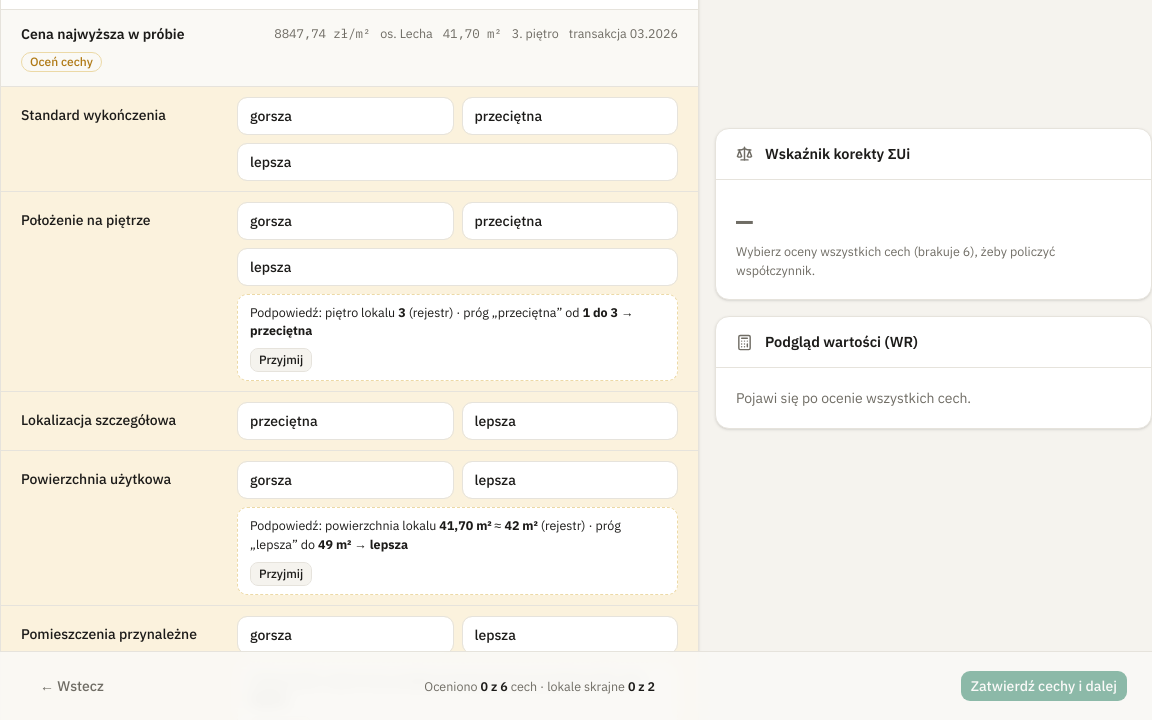
StepFeatures — lokale o cenie skrajnej (ADR-022, makieta 7) › „Przyjmij” zaznacza podpowiedziany kafelek i chowa podpowiedź; nic nie zaznacza się samo
The width and height of the screenshot is (1152, 720).
(page scrolled)
Click the 1st button "Przyjmij" at (281, 360), box [250, 348, 312, 372]
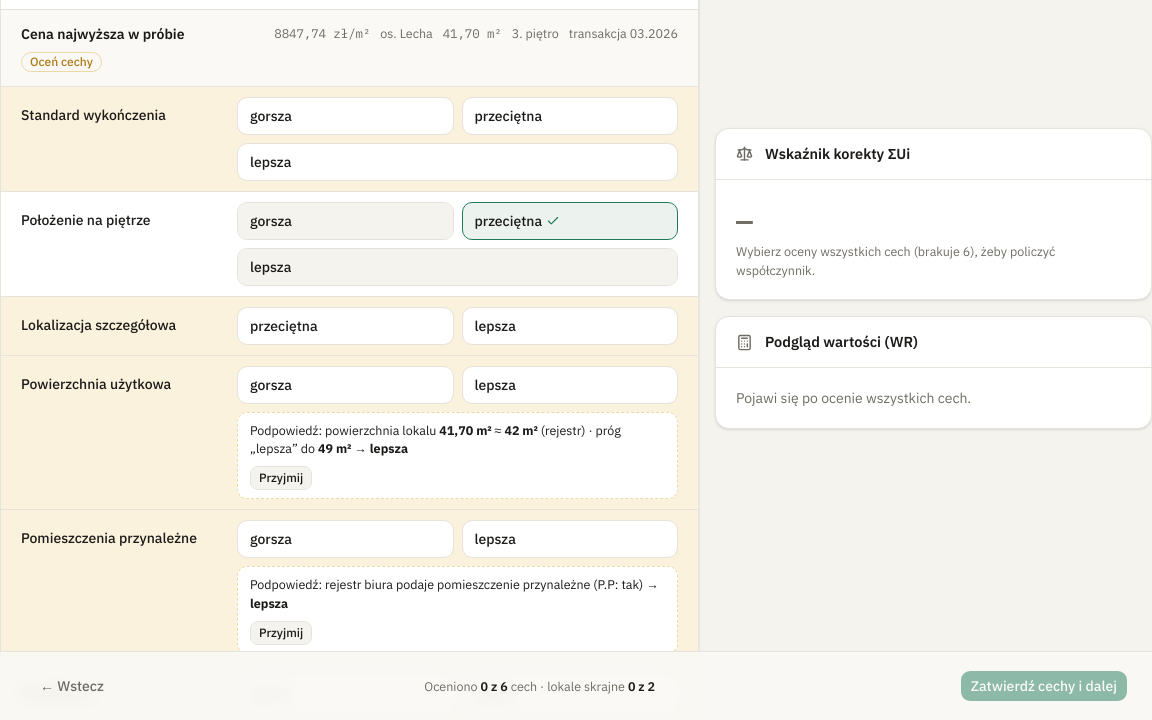
Expected: the element with test id "extreme-hint-0-polozenie-na-pietrze" is gone
